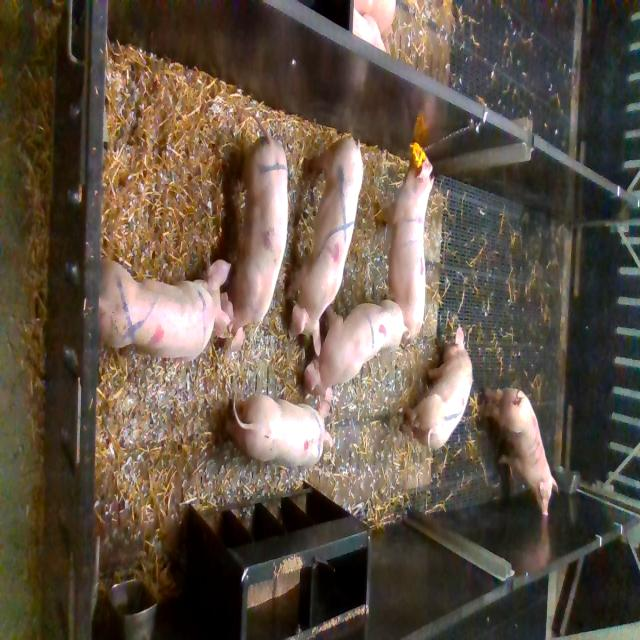pig: (286, 136, 364, 356), (221, 114, 288, 354), (98, 259, 234, 365), (305, 300, 411, 403), (376, 156, 435, 337), (480, 387, 559, 516), (399, 327, 473, 453), (225, 391, 334, 470)
